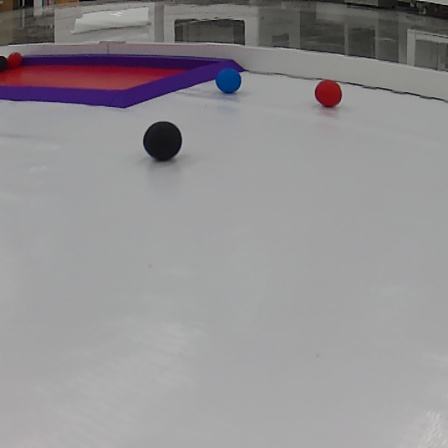black: (145, 123, 184, 158), (0, 56, 5, 70)
blue: (214, 70, 244, 90)
red: (315, 80, 344, 106), (8, 51, 23, 70)
red_aim: (0, 52, 239, 110)
